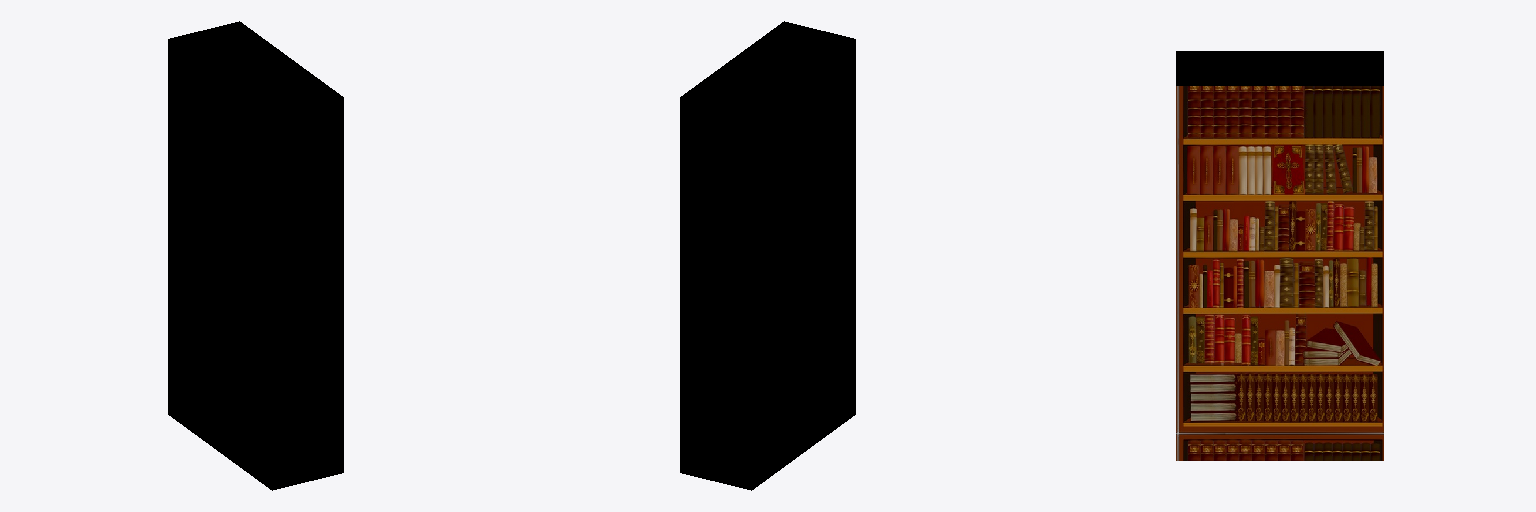
3 renders of one model, left to right at view 1: azimuth 30°, elevation 25°; view 2: azimuth 150°, elevation 25°; view 3: azimuth 270°, elevation 25°, orthographic.
Visible parts, largest first — view 1: pCube1; view 2: pCube1; view 3: pCube1.
Part boxes in pixels (x1,y1,x2,y2): pCube1: (168,21,343,490); pCube1: (680,21,855,490); pCube1: (1176,51,1383,460).
Bounding box in the file's own units: 2 × 10 × 5.
2 materials, 1 textured.